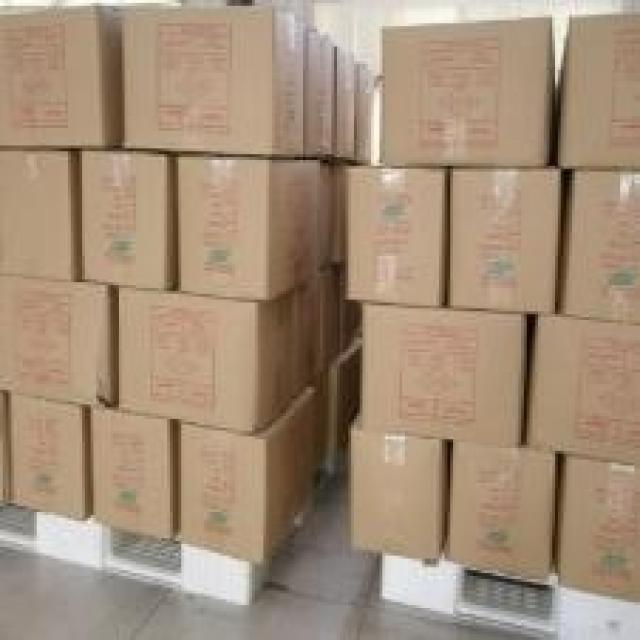box: (118, 278, 318, 434), (121, 6, 305, 156), (382, 18, 556, 166), (181, 382, 319, 566), (364, 301, 526, 446), (178, 155, 320, 301), (0, 6, 124, 145), (528, 315, 637, 463), (448, 170, 560, 314), (0, 274, 118, 406), (351, 408, 450, 560), (448, 442, 555, 582), (346, 167, 449, 308), (81, 151, 177, 291), (92, 395, 182, 540), (555, 15, 637, 169), (553, 454, 637, 602), (561, 171, 637, 326), (8, 394, 93, 522), (2, 149, 84, 279), (305, 26, 336, 157), (337, 48, 358, 161)
